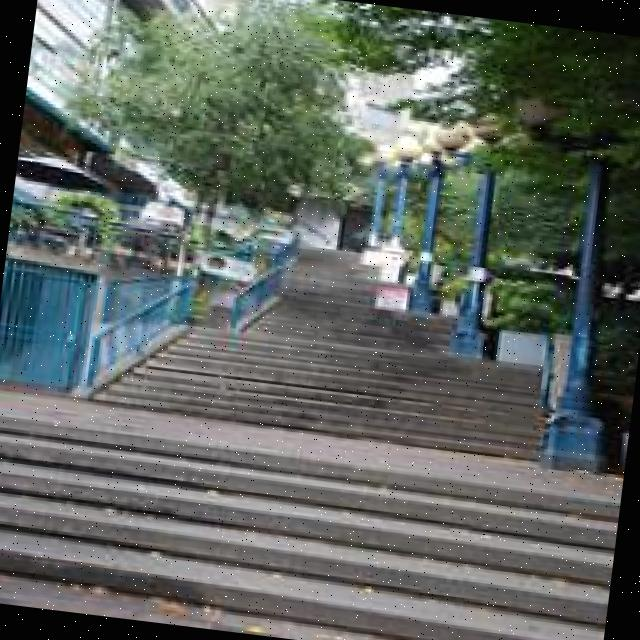stairs: (0, 199, 639, 640)
